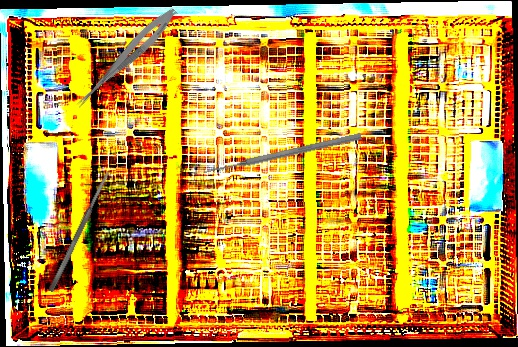Micro Scissor: (72, 2, 181, 115)
Pusher: (202, 131, 363, 177)
Spatula Surgical: (47, 170, 112, 293)
